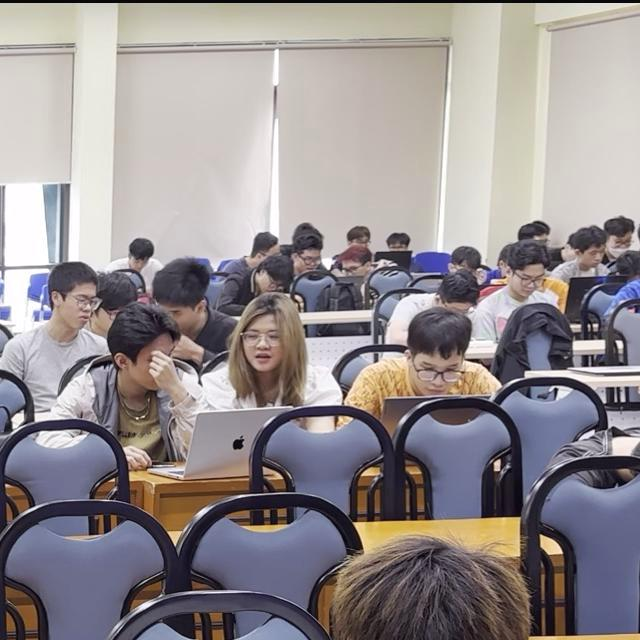Looking away: (241, 318, 286, 374), (409, 353, 462, 396), (58, 279, 99, 331), (509, 262, 548, 301)
